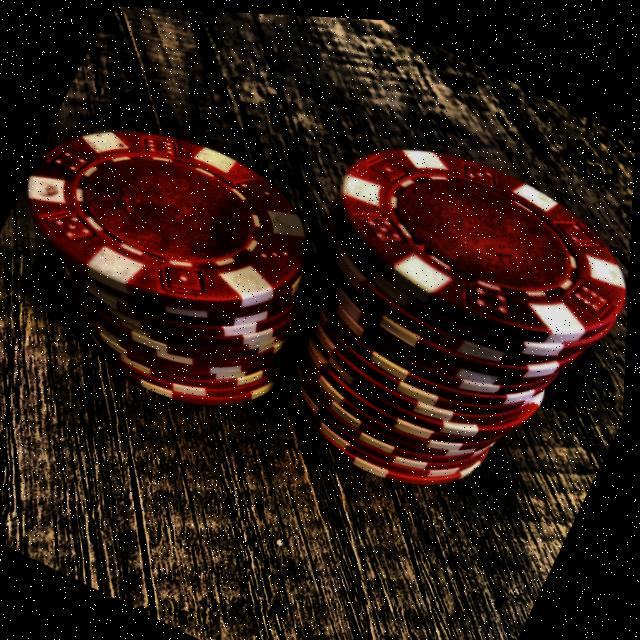Chip: (227, 94, 637, 542), (0, 72, 369, 443)
